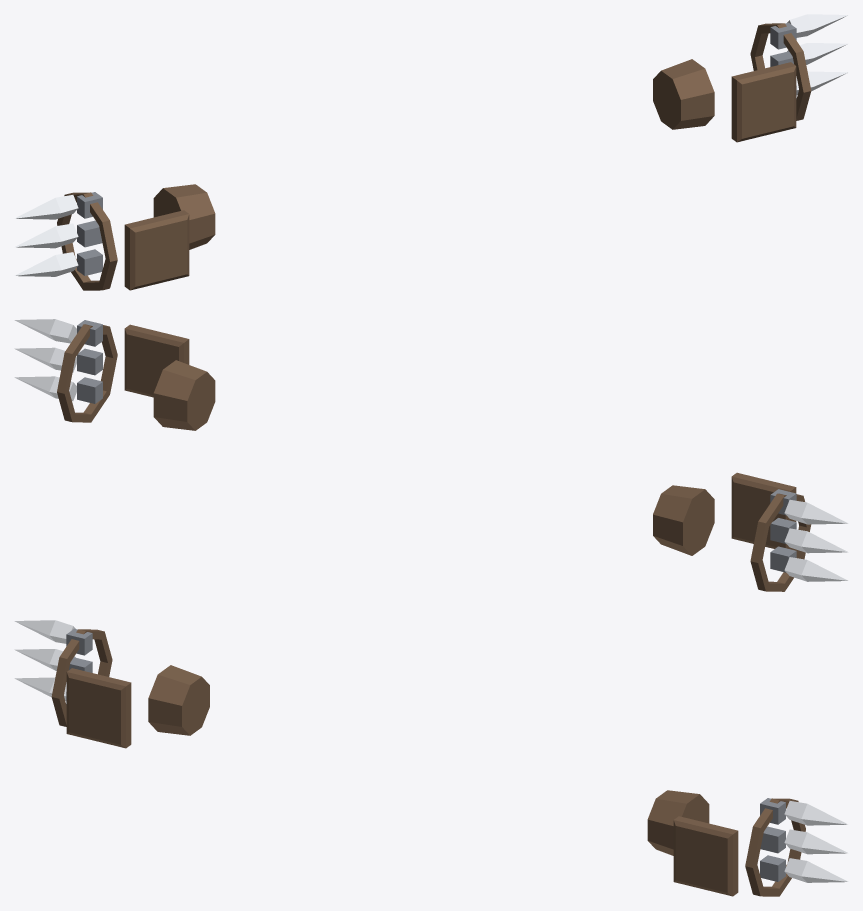
File: tigerclaws.glb
3 renders of one model, top to bottom at view 1: azimuth 30°, elevation 25°; view 2: azimuth 150°, elevation 25°; view 3: azimuth 330°, elevation 25°, orthographic.
Parts seen in each view (by area): view 1: Fist2R, Fist1R, Fist1L, Fist2L, LowerArmL, LowerArmR; view 2: Fist2L, Fist2R, LowerArmL, LowerArmR, Fist1L, Fist1R; view 3: Fist2L, Fist1L, Fist1R, Fist2R, LowerArmR, LowerArmL.
Part boxes in pixels (left/top/right/bottom): Fist2R: left=14, top=192, right=117, bottom=290; Fist1R: left=124, top=210, right=189, bottom=290; Fist1L: left=731, top=62, right=796, bottom=142; Fist2L: left=750, top=14, right=848, bottom=120; LowerArmL: left=653, top=59, right=714, bottom=129; LowerArmR: left=153, top=184, right=215, bottom=249; Fist2L: left=14, top=319, right=117, bottom=422; Fist2R: left=750, top=489, right=848, bottom=591; LowerArmL: left=153, top=360, right=215, bottom=430; LowerArmR: left=653, top=485, right=714, bottom=555; Fist1L: left=124, top=324, right=189, bottom=397; Fist1R: left=731, top=472, right=796, bottom=549; Fist2L: left=745, top=798, right=848, bottom=896; Fist1L: left=673, top=816, right=738, bottom=896; Fist1R: left=66, top=668, right=131, bottom=748; Fist2R: left=14, top=620, right=112, bottom=726; LowerArmR: left=148, top=665, right=209, bottom=735; LowerArmL: left=647, top=790, right=709, bottom=855.
Size of the model in its own units: 3.66 by 0.408 by 0.434.
